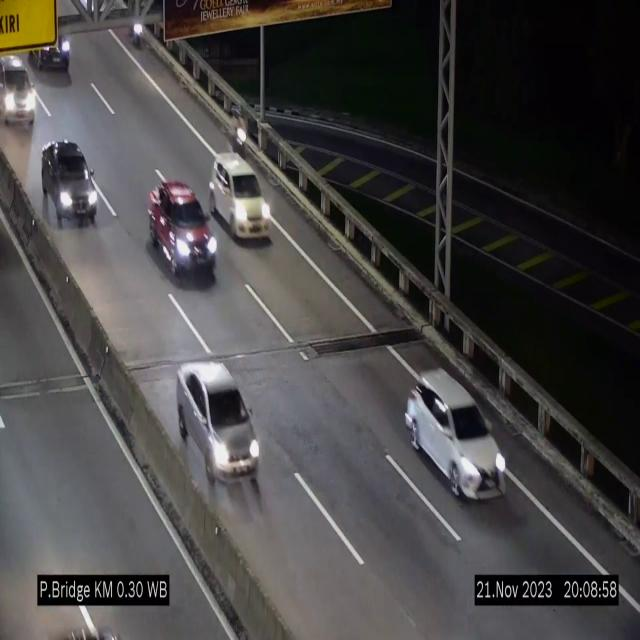Car: (405, 370, 509, 498), (176, 363, 260, 487), (148, 181, 218, 279), (209, 154, 271, 240), (42, 140, 98, 225), (0, 53, 40, 135), (28, 7, 76, 75)
Motorcycle: (226, 104, 248, 158), (125, 1, 145, 52)
